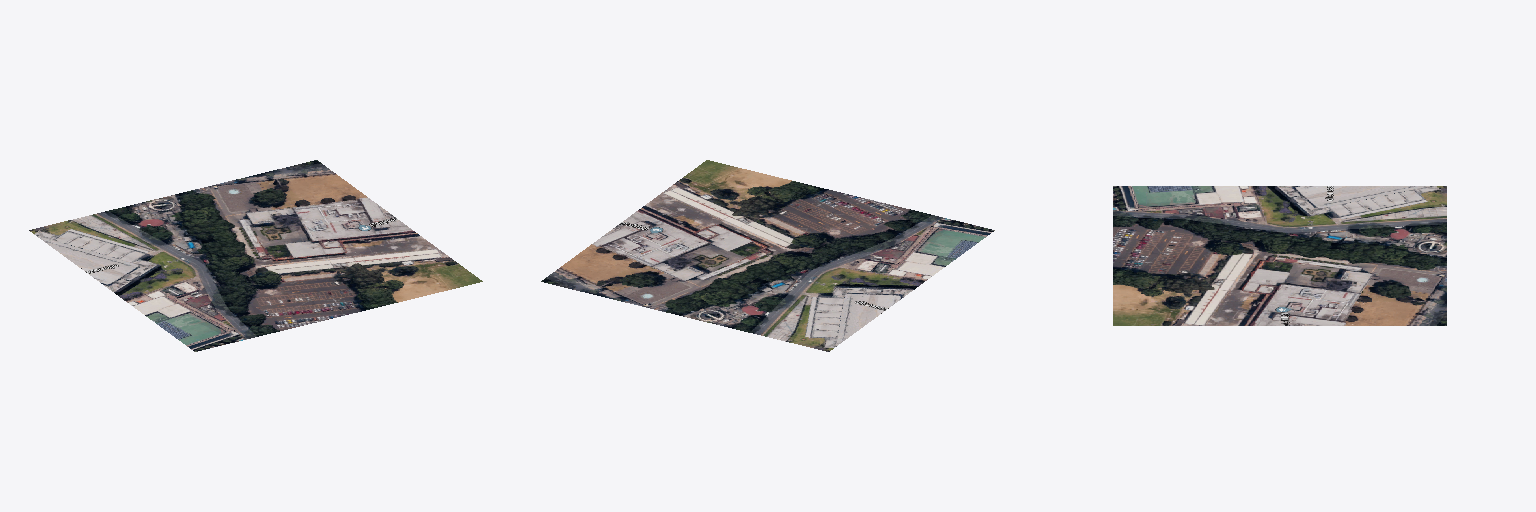
The picture shows the model from 3 angles: view 1: azimuth 30°, elevation 25°; view 2: azimuth 150°, elevation 25°; view 3: azimuth 270°, elevation 25°; orthographic projection.
Bounding box in the file's own units: 20 × 0 × 20.
1 materials, 1 textured.